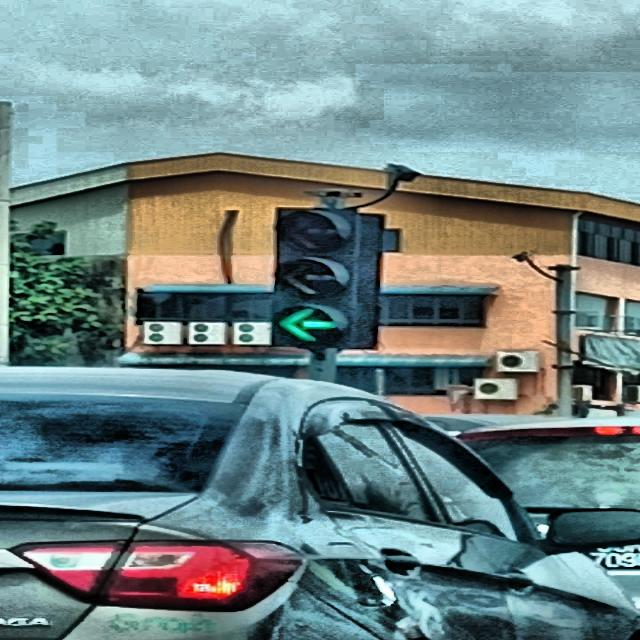green: (269, 208, 359, 345)
